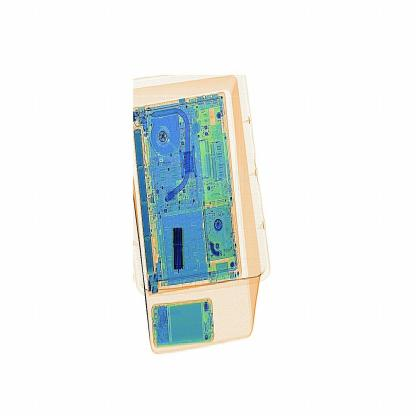scissors: (168, 211, 191, 277)
